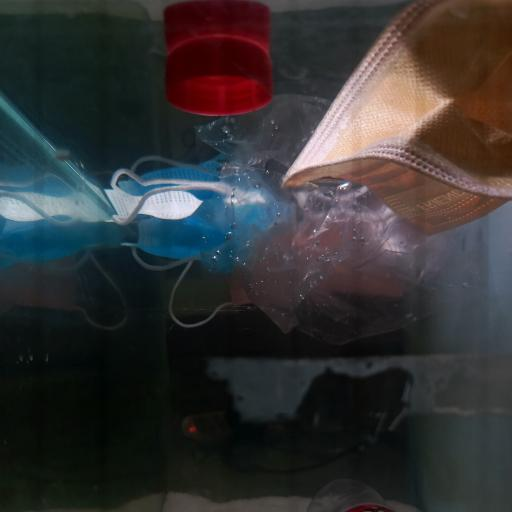bottle_cap: (164, 40, 274, 115)
mask: (273, 5, 512, 236), (108, 152, 291, 285)
plastic_bag: (209, 87, 487, 333)
